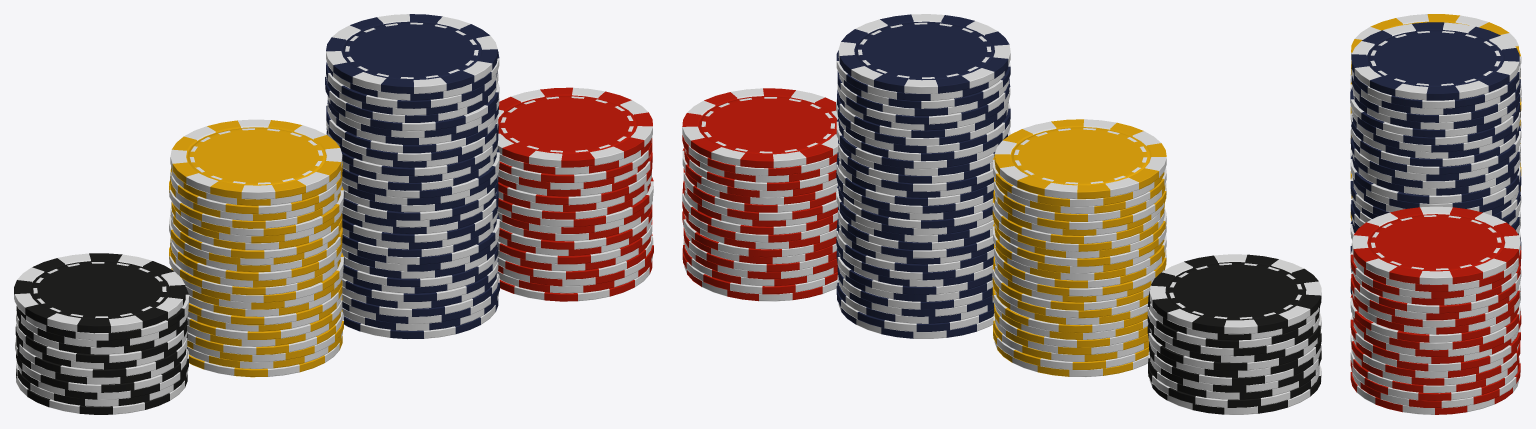
The model's file is ChipStacks.fbx.
3 views of the same model, side by side, from view 1: azimuth 30°, elevation 25°; view 2: azimuth 150°, elevation 25°; view 3: azimuth 270°, elevation 25° (orthographic). The views are drawn at different scales.
Visible parts, largest first — view 1: ChipStack1, ChipStack2, ChipStack3, ChipStack4; view 2: ChipStack1, ChipStack2, ChipStack3, ChipStack4; view 3: ChipStack3, ChipStack1, ChipStack2.
Part boxes in pixels (x1=…): ChipStack1: x1=325, y1=14, x2=499, y2=338; ChipStack2: x1=169, y1=119, x2=343, y2=377; ChipStack3: x1=498, y1=87, x2=653, y2=301; ChipStack4: x1=14, y1=253, x2=188, y2=414; ChipStack1: x1=836, y1=14, x2=1010, y2=338; ChipStack2: x1=992, y1=119, x2=1166, y2=377; ChipStack3: x1=682, y1=88, x2=838, y2=301; ChipStack4: x1=1147, y1=254, x2=1321, y2=414; ChipStack3: x1=1350, y1=206, x2=1521, y2=414; ChipStack1: x1=1350, y1=22, x2=1521, y2=294; ChipStack2: x1=1350, y1=14, x2=1521, y2=221.
Size of the model in its own units: 827 by 324 by 203.
